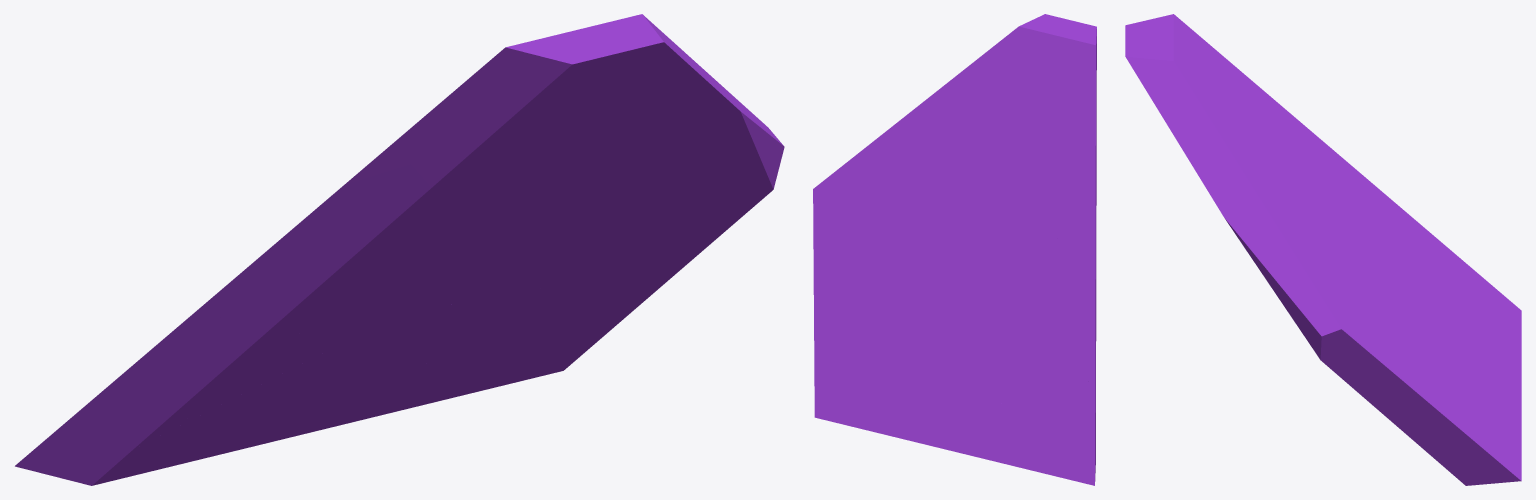
The model's file is Window_124_1_chunks.fbx.
The picture shows the model from 3 angles, left to right: view 1: azimuth 30°, elevation 25°; view 2: azimuth 150°, elevation 25°; view 3: azimuth 270°, elevation 25°; orthographic projection. The views are drawn at different scales.
Parts seen in each view (by area): view 1: Window_124_1_0, Window_124_1_3, Window_124_1_12, Window_124_1_6, Window_124_1_5, Window_124_1_14, Window_124_1_13, Window_124_1_2, Window_124_1_16, Window_124_1_11, Window_124_1_10, Window_124_1_15 (+6 smaller); view 2: Window_124_1_5, Window_124_1_6, Window_124_1_4, Window_124_1_14, Window_124_1_3, Window_124_1_7, Window_124_1_18, Window_124_1_2, Window_124_1_10, Window_124_1_1, Window_124_1_21, Window_124_1_0 (+6 smaller); view 3: Window_124_1_6, Window_124_1_5, Window_124_1_0, Window_124_1_9, Window_124_1_4, Window_124_1_14, Window_124_1_3, Window_124_1_7, Window_124_1_18, Window_124_1_2, Window_124_1_10, Window_124_1_1 (+6 smaller).
Boxes of the visible parts, bbox=[...] form: Window_124_1_0: bbox=[521, 134, 784, 357]; Window_124_1_3: bbox=[411, 38, 591, 206]; Window_124_1_12: bbox=[122, 245, 371, 449]; Window_124_1_6: bbox=[545, 14, 736, 168]; Window_124_1_5: bbox=[425, 271, 577, 403]; Window_124_1_14: bbox=[15, 376, 255, 485]; Window_124_1_13: bbox=[322, 164, 481, 278]; Window_124_1_2: bbox=[343, 173, 579, 342]; Window_124_1_16: bbox=[232, 342, 426, 427]; Window_124_1_11: bbox=[174, 265, 421, 428]; Window_124_1_10: bbox=[121, 204, 323, 385]; Window_124_1_15: bbox=[230, 365, 426, 451]; Window_124_1_5: bbox=[814, 214, 942, 428]; Window_124_1_6: bbox=[920, 14, 1085, 146]; Window_124_1_4: bbox=[860, 328, 1000, 449]; Window_124_1_14: bbox=[1005, 364, 1095, 485]; Window_124_1_3: bbox=[997, 24, 1096, 164]; Window_124_1_7: bbox=[867, 130, 1001, 215]; Window_124_1_18: bbox=[962, 251, 1077, 365]; Window_124_1_2: bbox=[962, 154, 1033, 296]; Window_124_1_10: bbox=[1048, 210, 1095, 389]; Window_124_1_1: bbox=[1017, 127, 1096, 233]; Window_124_1_21: bbox=[913, 205, 994, 295]; Window_124_1_0: bbox=[813, 192, 900, 298]; Window_124_1_6: bbox=[1125, 27, 1273, 208]; Window_124_1_5: bbox=[1342, 268, 1521, 485]; Window_124_1_0: bbox=[1286, 279, 1455, 476]; Window_124_1_9: bbox=[1219, 189, 1345, 331]; Window_124_1_4: bbox=[1426, 296, 1521, 453]; Window_124_1_14: bbox=[1430, 243, 1521, 364]; Window_124_1_3: bbox=[1125, 14, 1283, 162]; Window_124_1_7: bbox=[1271, 155, 1345, 298]; Window_124_1_18: bbox=[1355, 230, 1436, 309]; Window_124_1_2: bbox=[1278, 155, 1384, 235]; Window_124_1_10: bbox=[1304, 125, 1445, 245]; Window_124_1_1: bbox=[1238, 69, 1334, 188].
Bounding box in the file's own units: 930 × 763 × 720.
